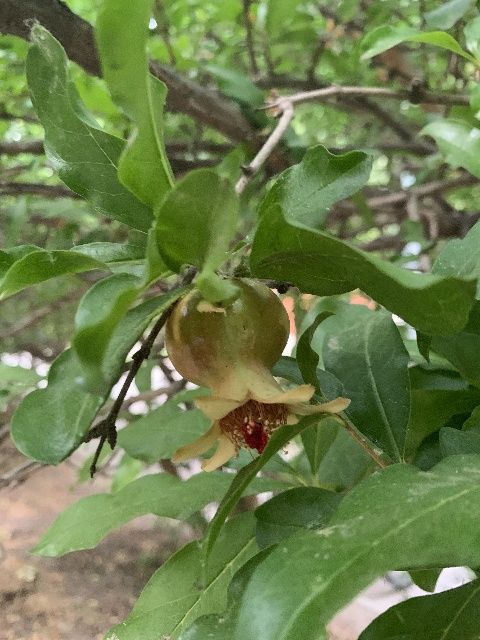early-fruit: (165, 278, 350, 474)
